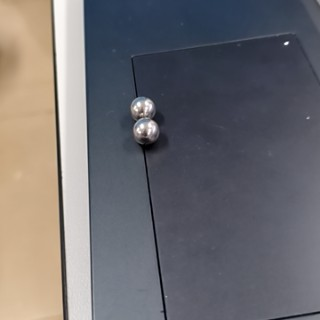ironball: (120, 85, 169, 119), (128, 116, 162, 151)
